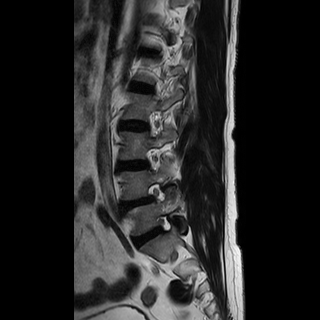RFS0: (140, 143, 165, 176)
RFS1: (140, 178, 169, 208), (150, 209, 175, 240)
